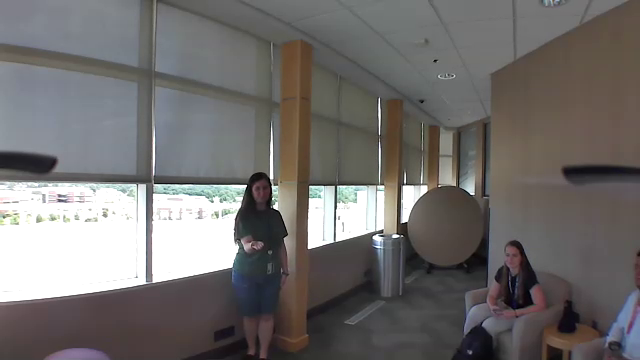land: (246, 237, 267, 254)
